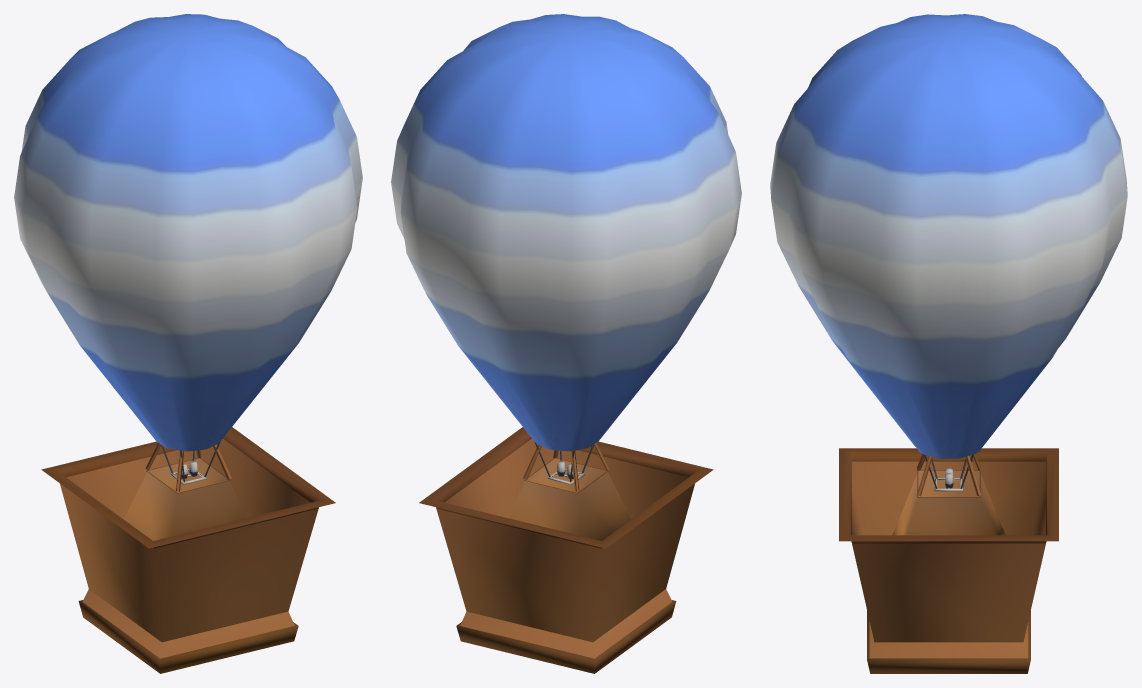
File: sıcak hava balonu.fbx
3 renders of one model, left to right at view 1: azimuth 30°, elevation 25°; view 2: azimuth 150°, elevation 25°; view 3: azimuth 270°, elevation 25°, orthographic.
Parts seen in each view (by area): view 1: Hot Air Balloon; view 2: Hot Air Balloon; view 3: Hot Air Balloon.
Part boxes in pixels (<box>): Hot Air Balloon: <box>14,14,362,673</box>; Hot Air Balloon: <box>391,14,741,673</box>; Hot Air Balloon: <box>770,14,1127,673</box>.
Size of the model in its own units: 1156 by 2195 by 1172.
